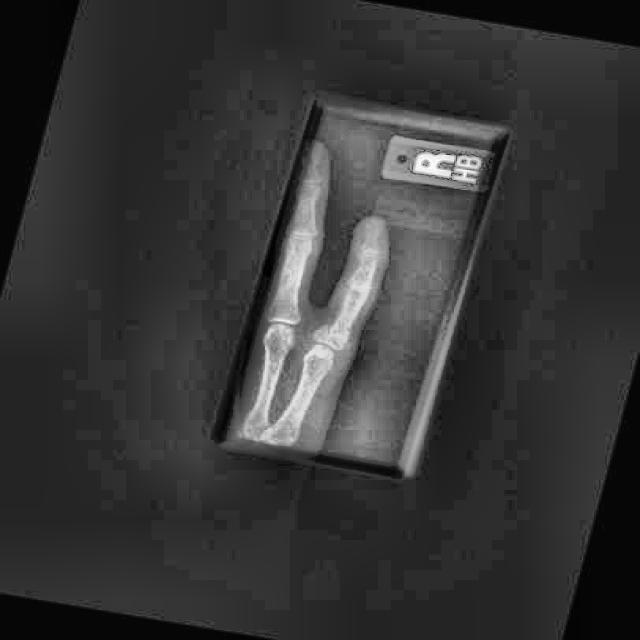fingers positive: (312, 318, 355, 356)
